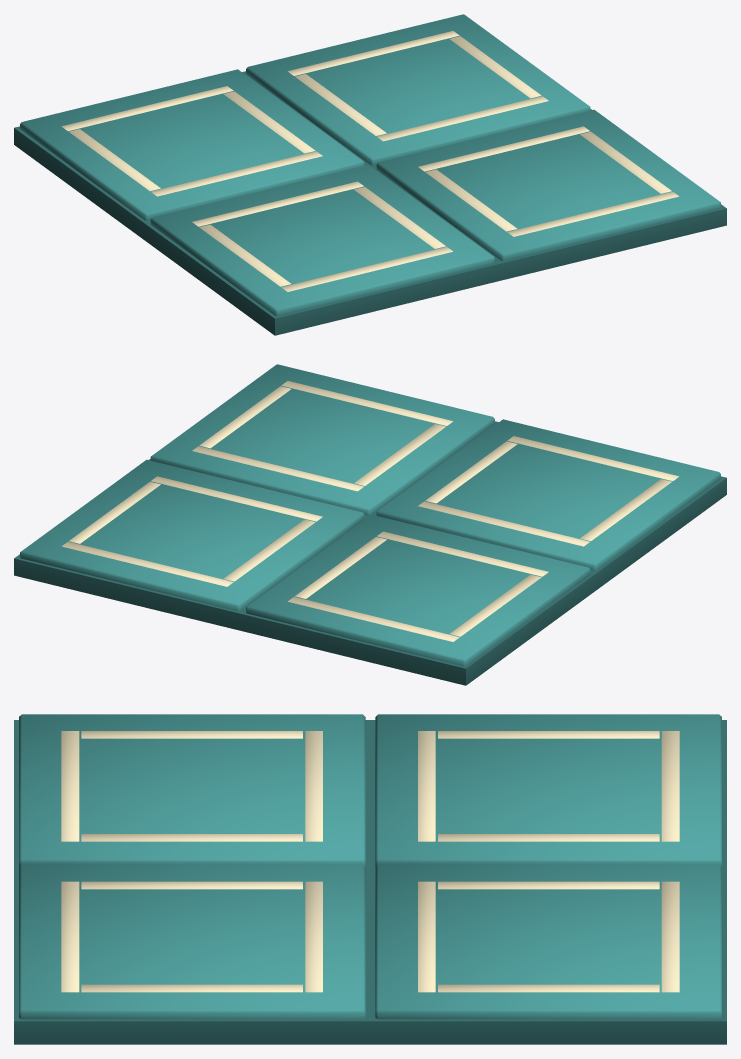
Rendered from Floor_Carpet_1m.glb.
The picture shows the model from 3 angles, top to bottom: view 1: azimuth 30°, elevation 25°; view 2: azimuth 150°, elevation 25°; view 3: azimuth 270°, elevation 25°; orthographic projection. The views are drawn at different scales.
Visible parts, largest first — view 1: SM_Floor_Carpet_1m; view 2: SM_Floor_Carpet_1m; view 3: SM_Floor_Carpet_1m.
Part boxes in pixels (<box>): SM_Floor_Carpet_1m: <box>14,14,726,335</box>; SM_Floor_Carpet_1m: <box>14,364,726,685</box>; SM_Floor_Carpet_1m: <box>14,714,726,1044</box>.
Size of the model in its own units: 1 by 0.0505 by 1.
1 material, 1 textured.
